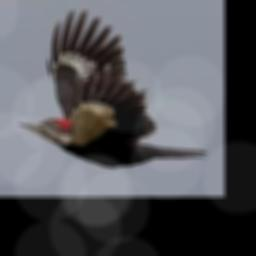Woodpecker: (17, 10, 208, 166)
